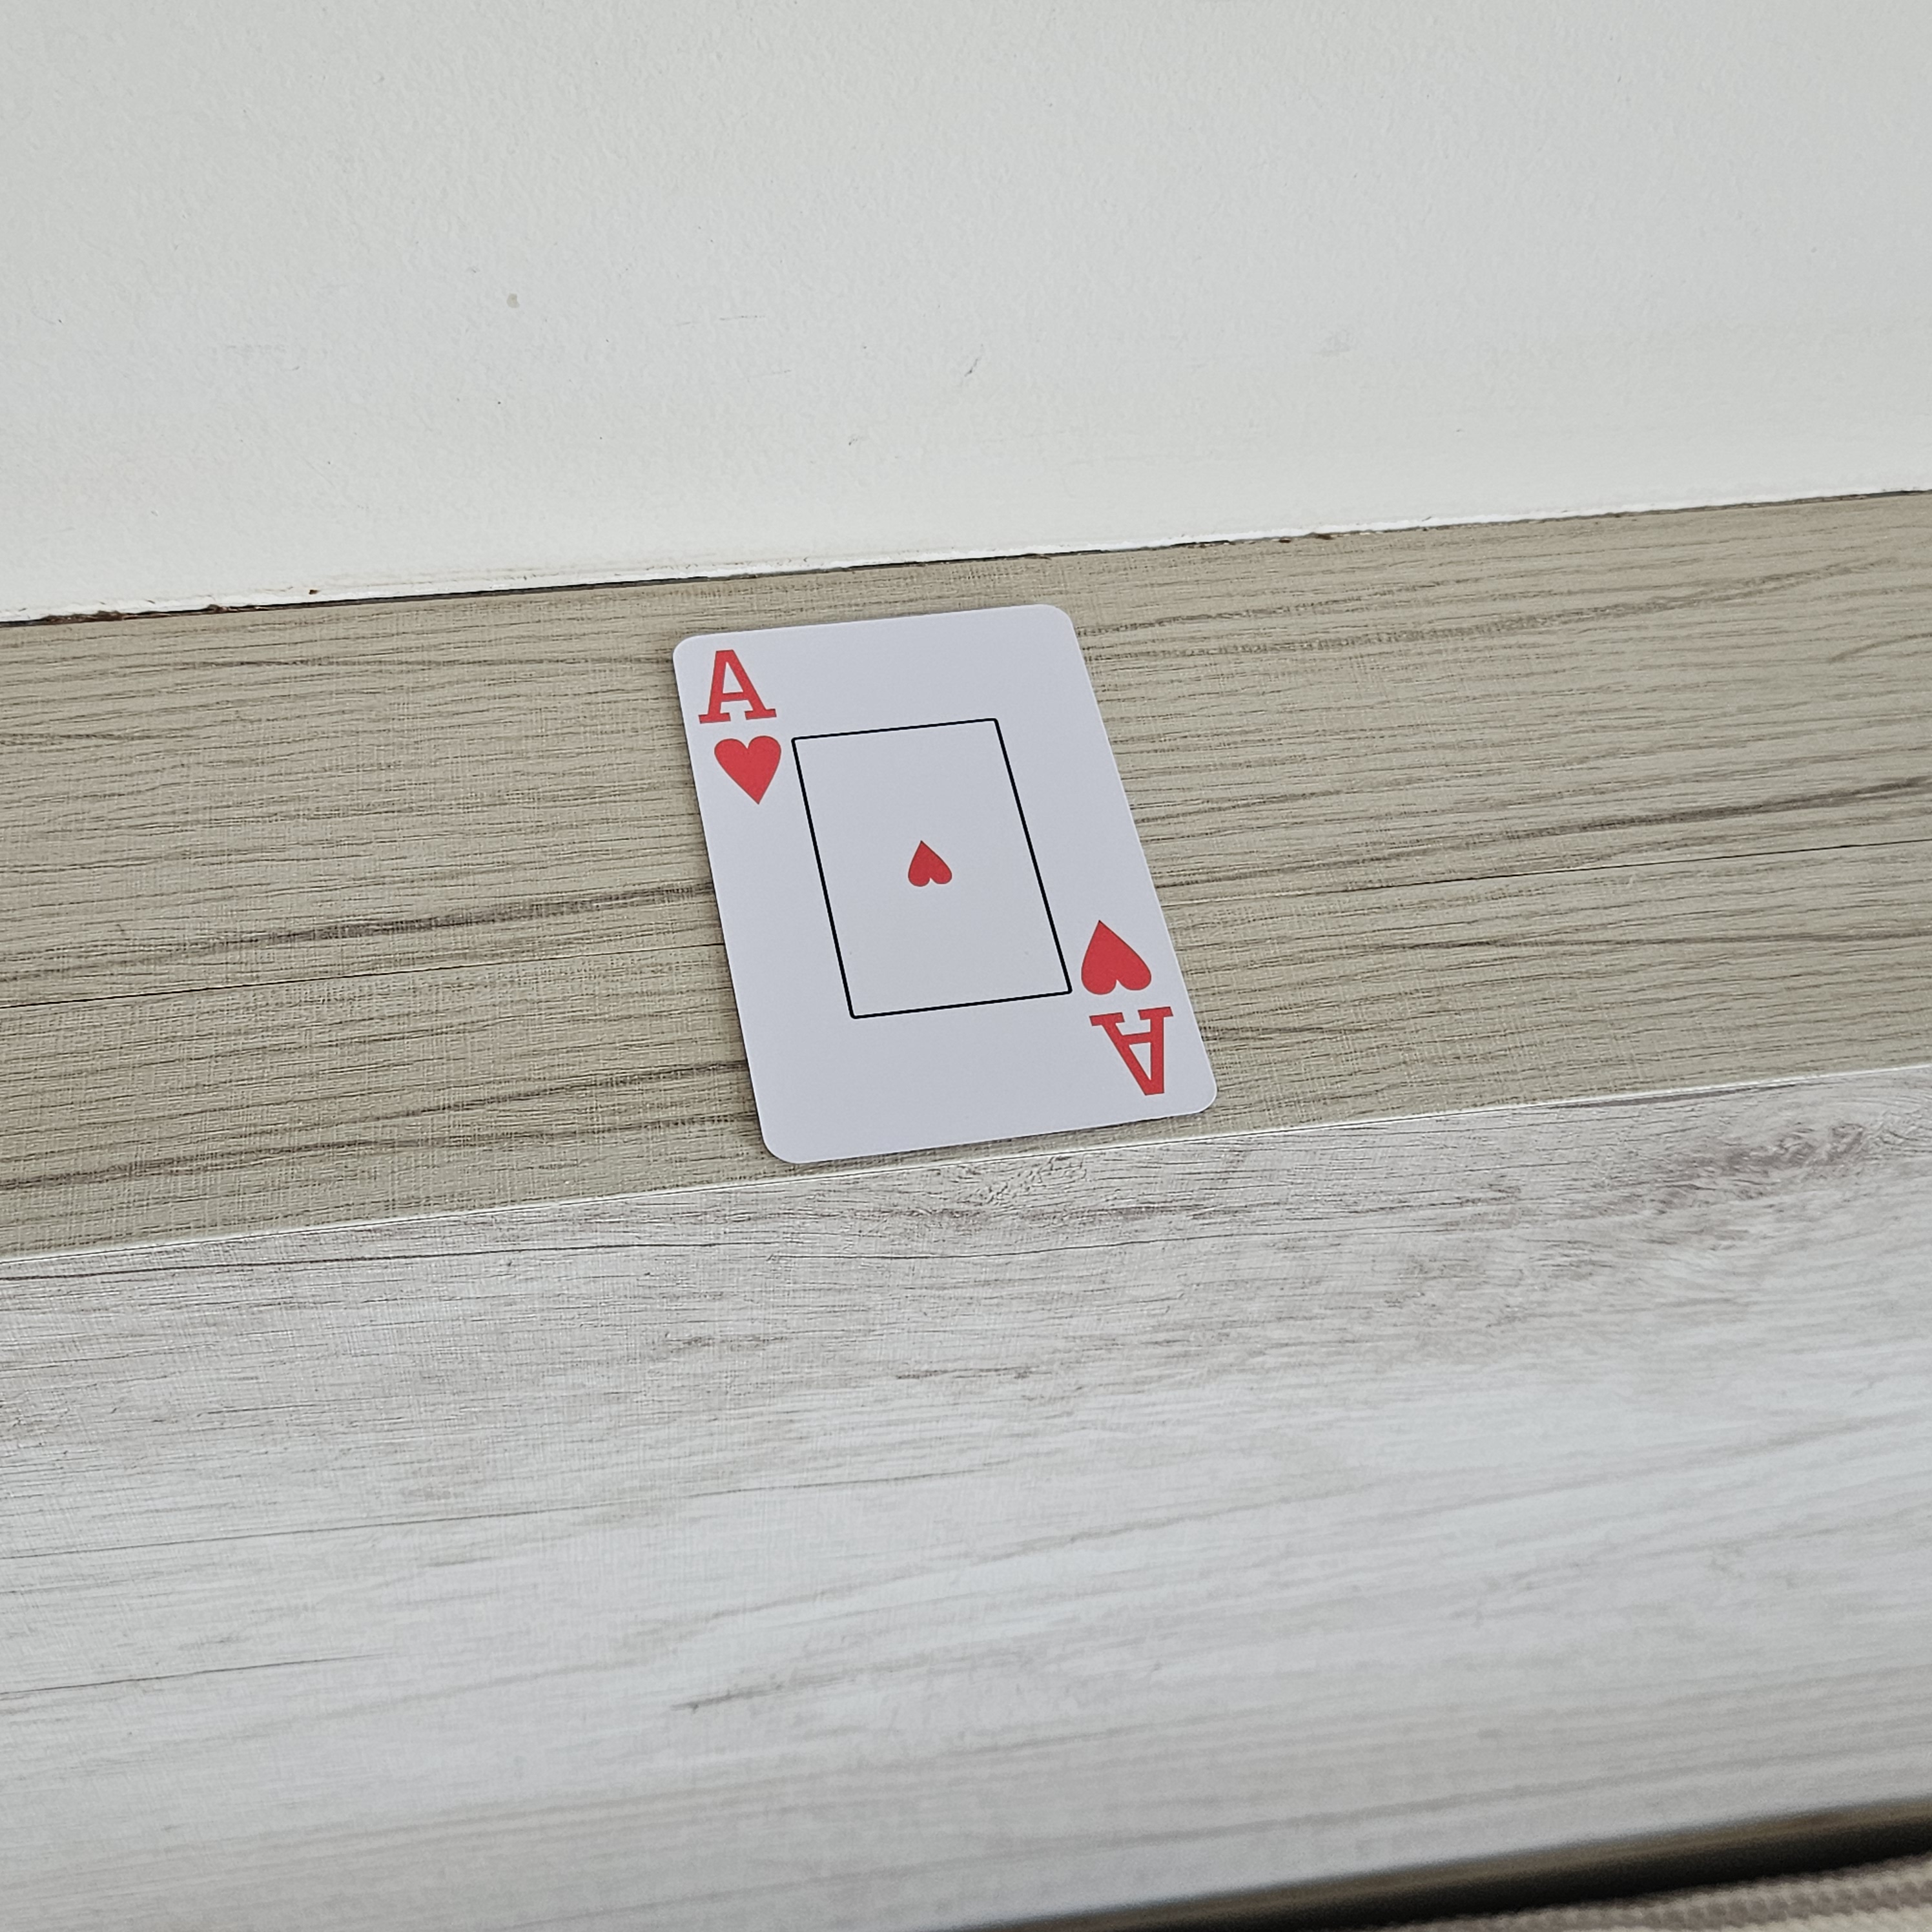AC: (1058, 902, 1201, 1122), (681, 633, 810, 819)
